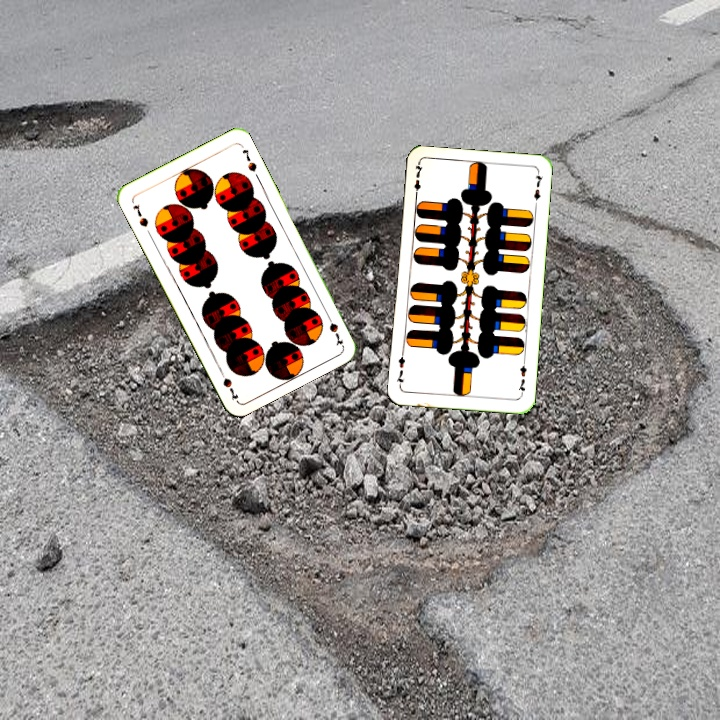E7: (514, 357, 529, 398), (410, 160, 425, 201)
S7: (322, 309, 346, 348), (129, 200, 151, 230)
